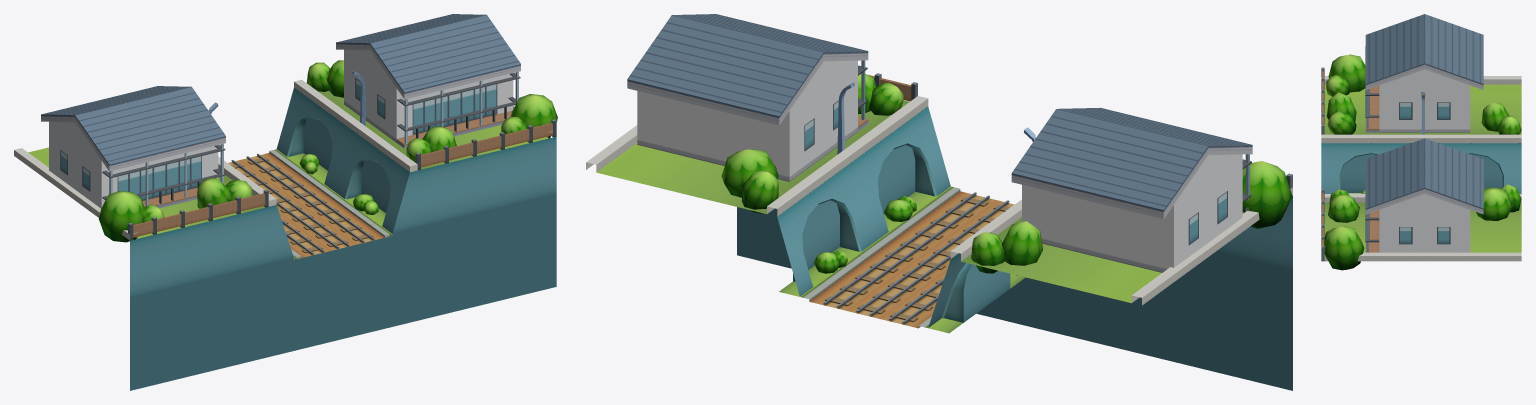
Rendered from Road05.FBX.
The picture shows the model from 3 angles, left to right: view 1: azimuth 30°, elevation 25°; view 2: azimuth 150°, elevation 25°; view 3: azimuth 270°, elevation 25°; orthographic projection. The views are drawn at different scales.
Visible parts, largest first — view 1: Side, House5, Plant, Rail; view 2: Side, House5, Rail, Plant; view 3: House5, Side, Plant.
Part boxes in pixels (x1=…): Side: x1=14, y1=71, x2=556, y2=390; House5: x1=41, y1=14, x2=556, y2=240; Plant: x1=99, y1=60, x2=557, y2=242; Rail: x1=228, y1=153, x2=384, y2=257; Side: x1=586, y1=82, x2=1292, y2=390; House5: x1=627, y1=14, x2=1292, y2=272; Rail: x1=809, y1=191, x2=1014, y2=328; Plant: x1=721, y1=74, x2=1292, y2=275; House5: x1=1321, y1=14, x2=1483, y2=261; Side: x1=1321, y1=76, x2=1521, y2=261; Plant: x1=1324, y1=54, x2=1521, y2=270.
Size of the model in its own units: 3585 by 1756 by 1601.
